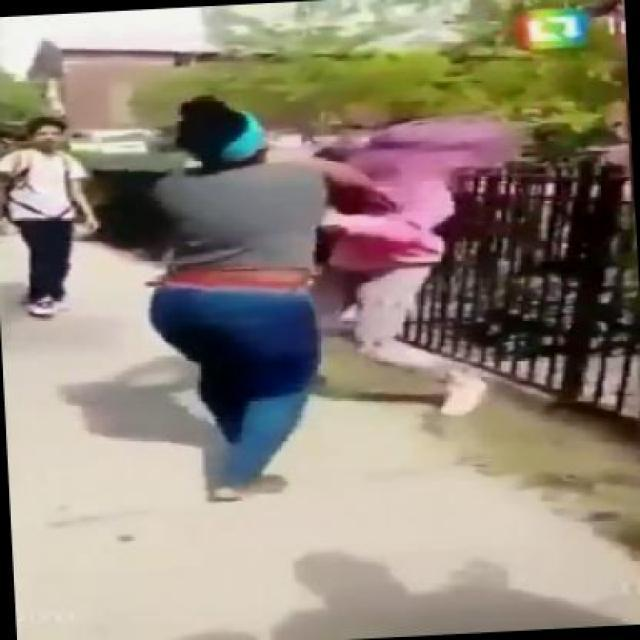fight: (128, 83, 494, 512)
